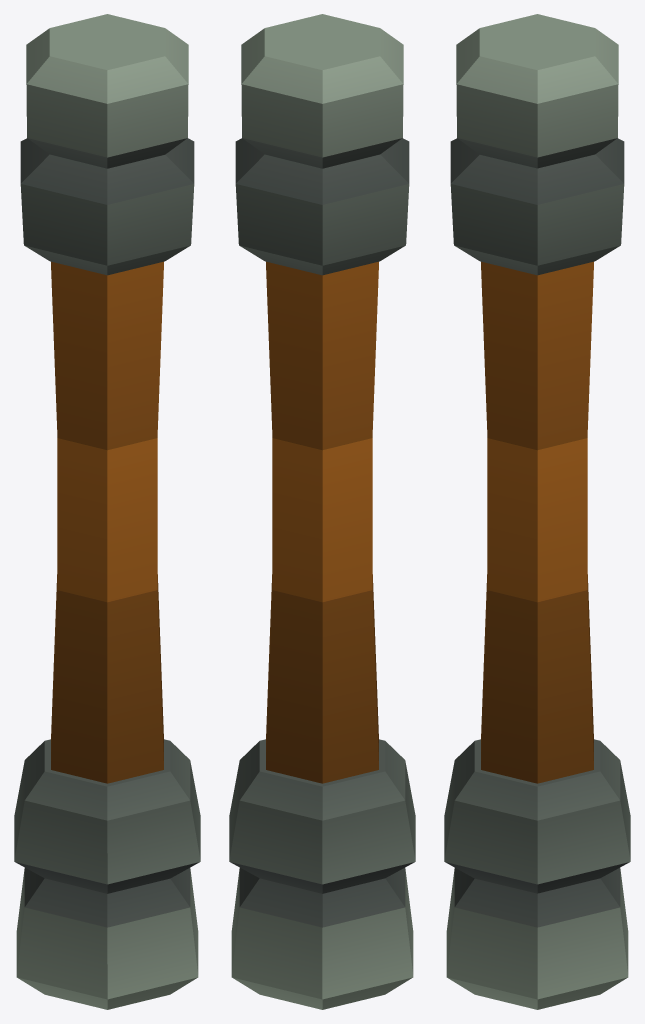
File: short-handle.fbx
3 views of the same model, side by side, from view 1: azimuth 30°, elevation 25°; view 2: azimuth 150°, elevation 25°; view 3: azimuth 270°, elevation 25° (orthographic).
Visible parts, largest first — view 1: short-handle; view 2: short-handle; view 3: short-handle.
Part boxes in pixels (<box>): short-handle: <box>14,14,200,1009</box>; short-handle: <box>229,14,415,1009</box>; short-handle: <box>444,14,630,1009</box>.
Bounding box in the file's own units: 8.88 × 42.67 × 7.69.
